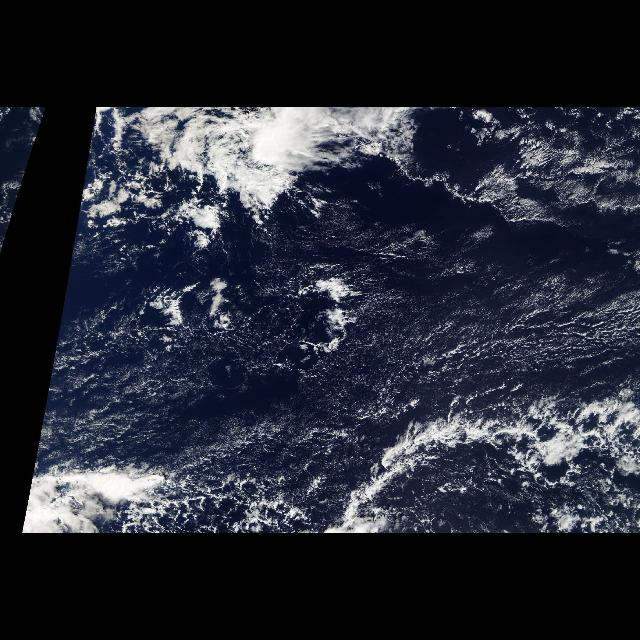Fish: (332, 398, 460, 532)
Gravel: (132, 404, 358, 532), (476, 400, 636, 530)
Sugar: (348, 234, 636, 396), (64, 366, 326, 458)
